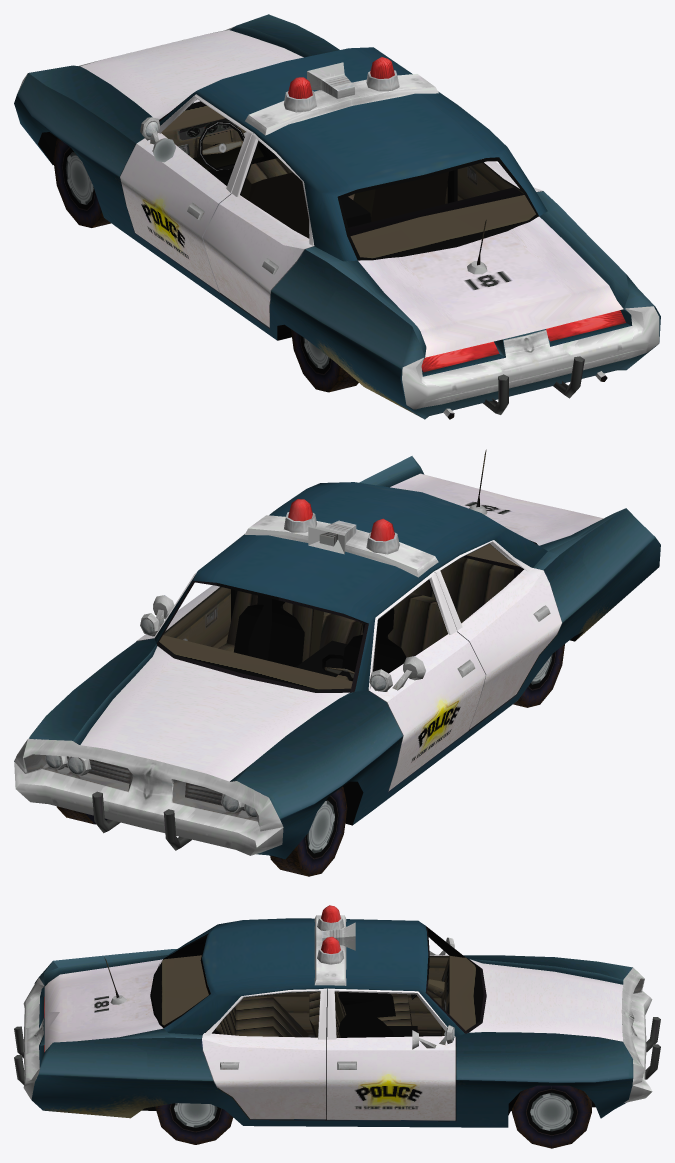
Rendered from CopCar.obj.
3 renders of one model, top to bottom at view 1: azimuth 30°, elevation 25°; view 2: azimuth 150°, elevation 25°; view 3: azimuth 270°, elevation 25°, orthographic. The views are drawn at different scales.
Visible parts, largest first — view 1: mesh_0.001_mesh_0_mesh0000.001; view 2: mesh_0.001_mesh_0_mesh0000.001; view 3: mesh_0.001_mesh_0_mesh0000.001.
Part boxes in pixels (<box>): mesh_0.001_mesh_0_mesh0000.001: <box>14,14,660,419</box>; mesh_0.001_mesh_0_mesh0000.001: <box>14,449,660,876</box>; mesh_0.001_mesh_0_mesh0000.001: <box>14,905,660,1148</box>.
Bounding box in the file's own units: 2.77 × 2.1 × 6.82.
1 material, 1 textured.
